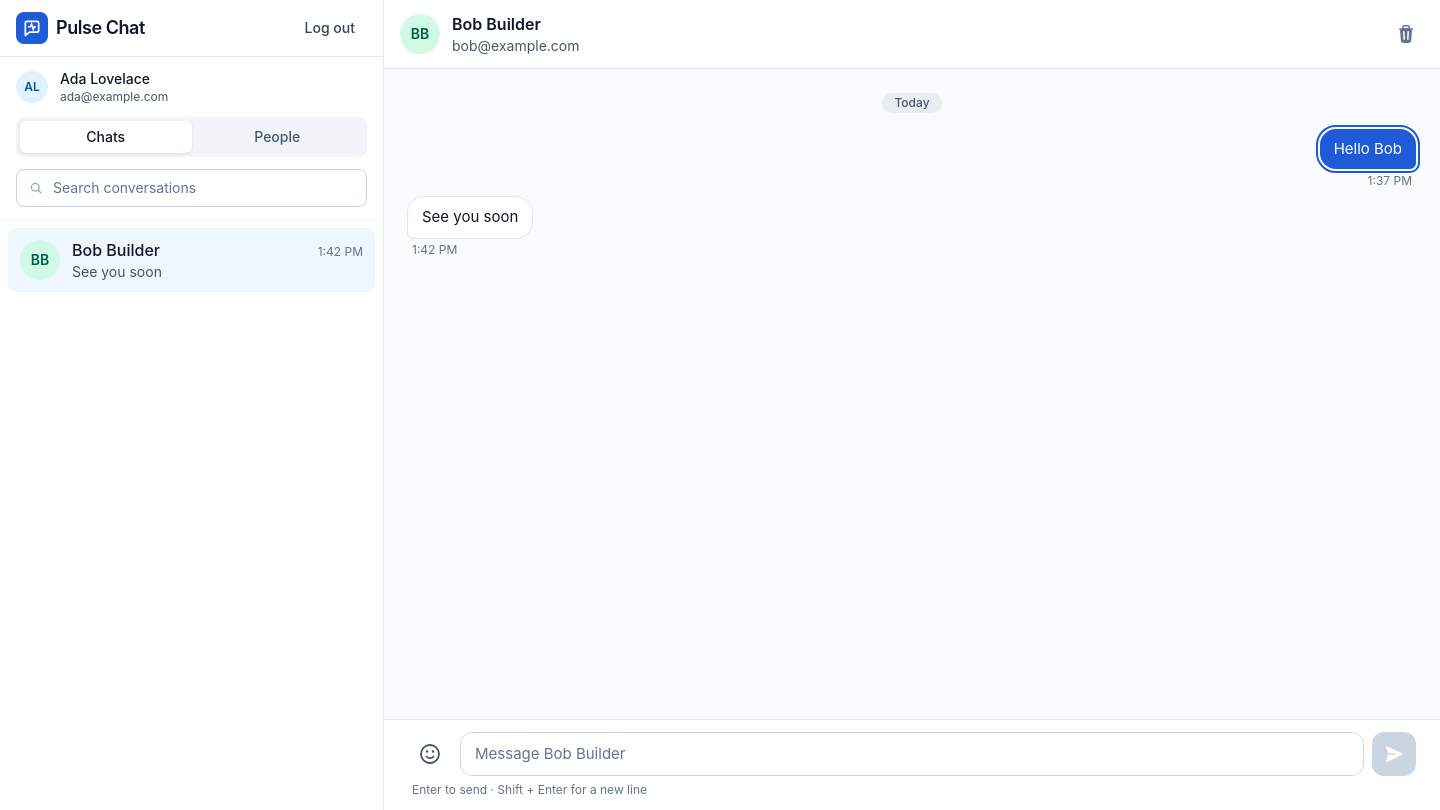
Test: replies › starts a reply with the right arrow key and can cancel with the button or Escape
This screenshot has width=1440, height=810.
Expected: the heading "Bob Builder" is shown, top-left (452, 14), bottom-right (541, 34)
Expected: the button "Hello Bob" is shown, top-left (1320, 129), bottom-right (1416, 169)
Press Arrowright
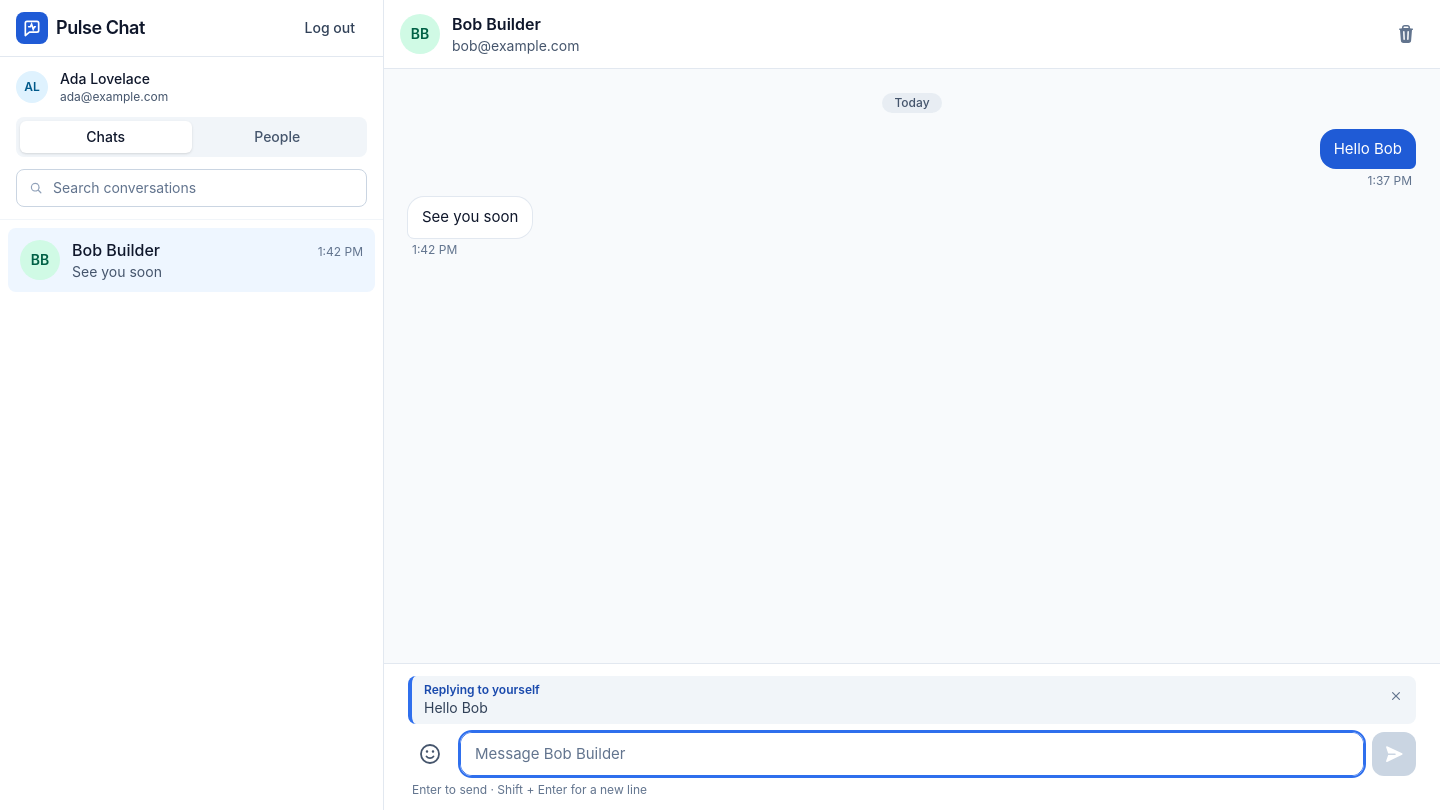
Now the text "Replying to yourself" is shown, box top-left (424, 682), bottom-right (540, 697)
Click the button named "Cancel reply" at (1396, 696), box top-left (1382, 682), bottom-right (1410, 710)
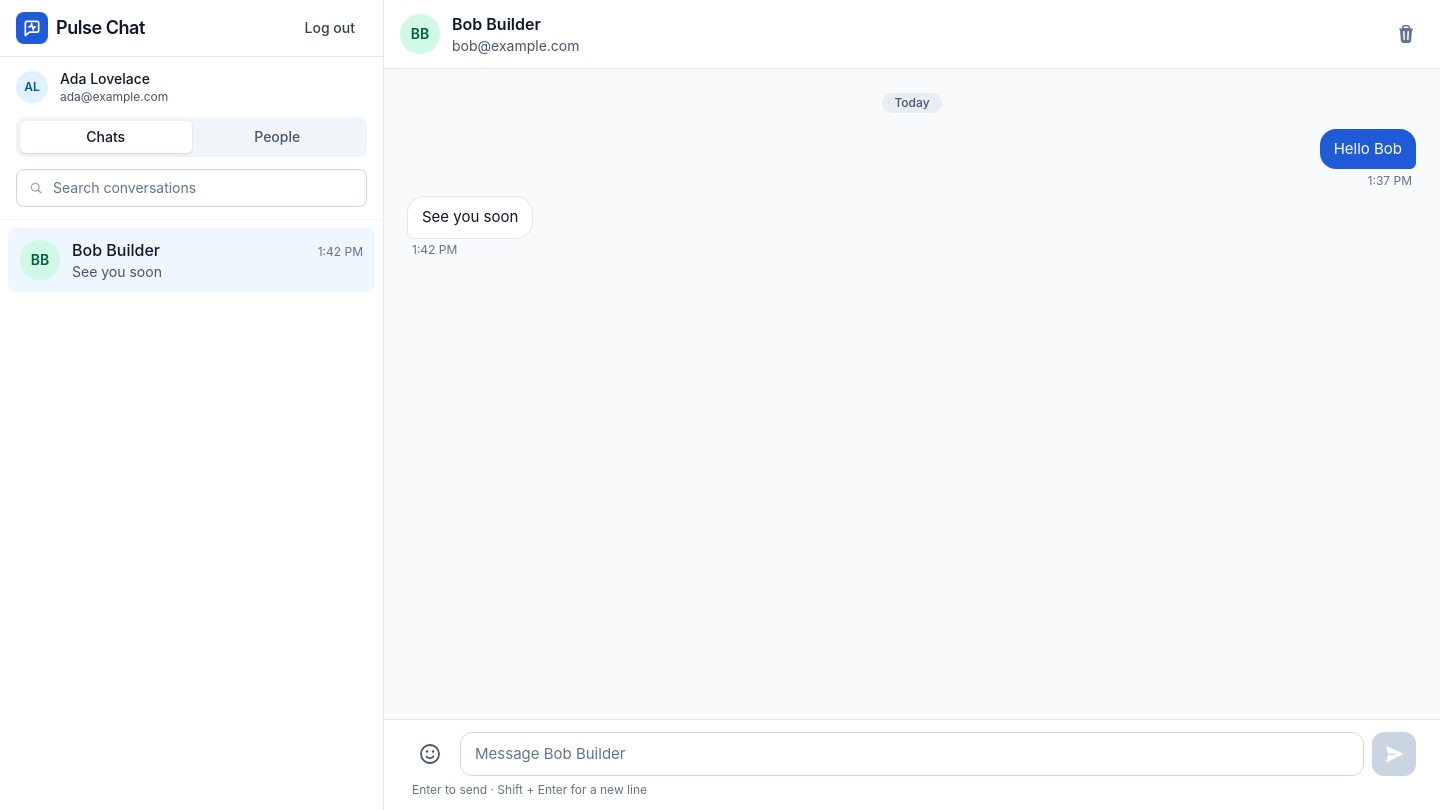
Now the text "Replying to yourself" is gone
Press the mouse on the button "Hello Bob" at (1368, 149), box top-left (1320, 129), bottom-right (1416, 169)
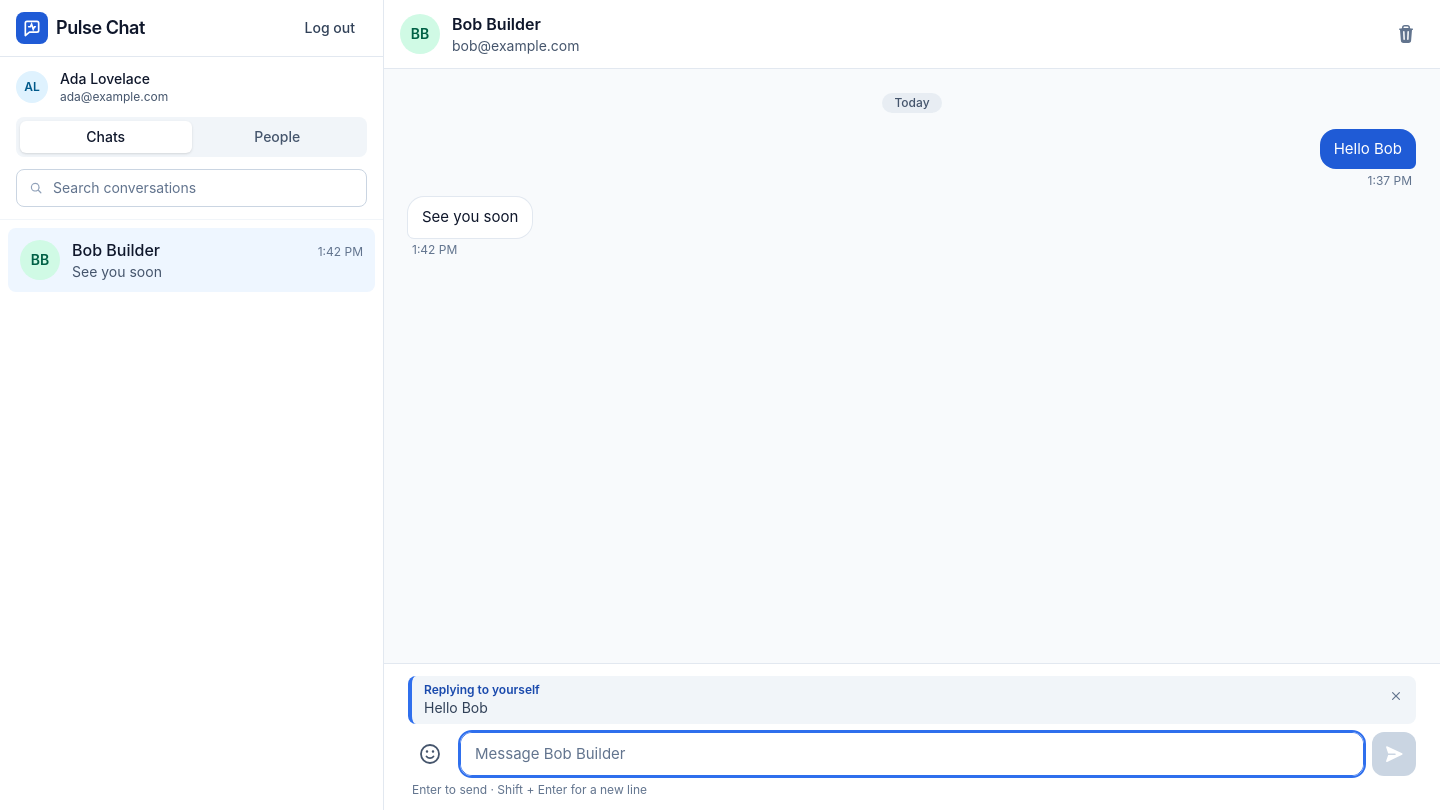
Press Escape
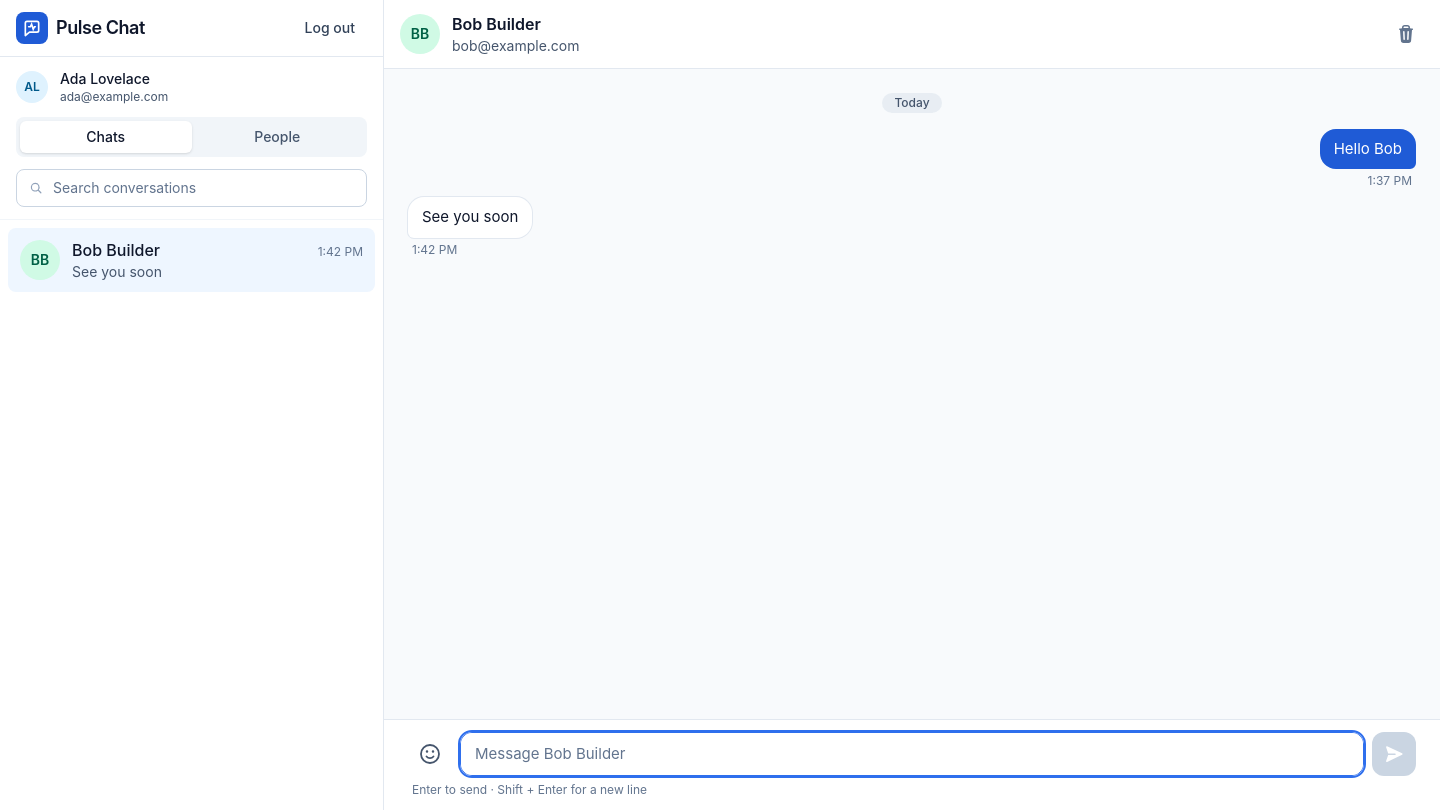
Now the text "Replying to yourself" is gone
